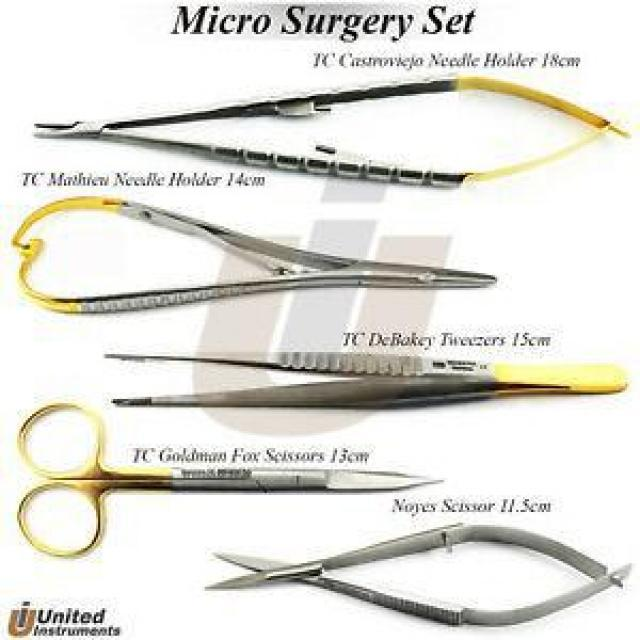Castroviejo: (28, 72, 638, 192), (9, 190, 502, 320)
Forceps: (100, 348, 632, 414)
Iris: (11, 399, 450, 561)
Potts: (204, 518, 634, 632)
